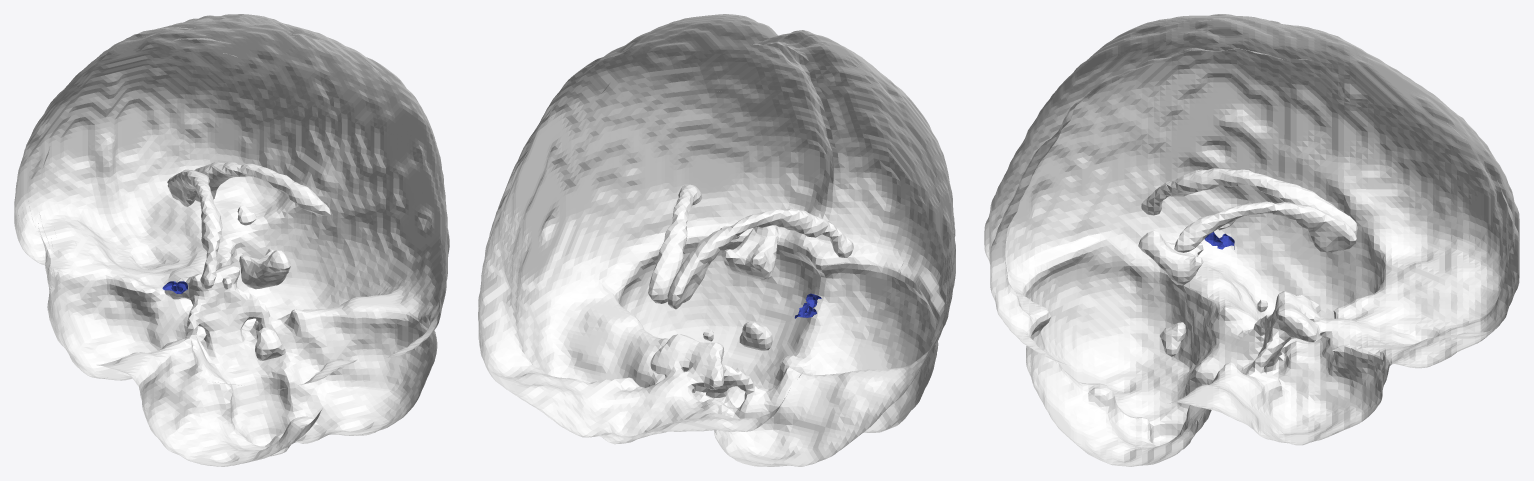
The model's file is TPS_FA.gltf.
3 renders of one model, left to right at view 1: azimuth 30°, elevation 25°; view 2: azimuth 150°, elevation 25°; view 3: azimuth 270°, elevation 25°, orthographic. The views are drawn at different scales.
Visible parts, largest first — view 1: Renderer Node; view 2: Renderer Node; view 3: Renderer Node.
Boxes of the visible parts, x1,y1,x2,y2 form: Renderer Node: (14,14,449,466); Renderer Node: (478,14,955,466); Renderer Node: (984,14,1519,466).
Size of the model in its own units: 144 by 152 by 180.
Materials: 2 (2 with a texture image).
